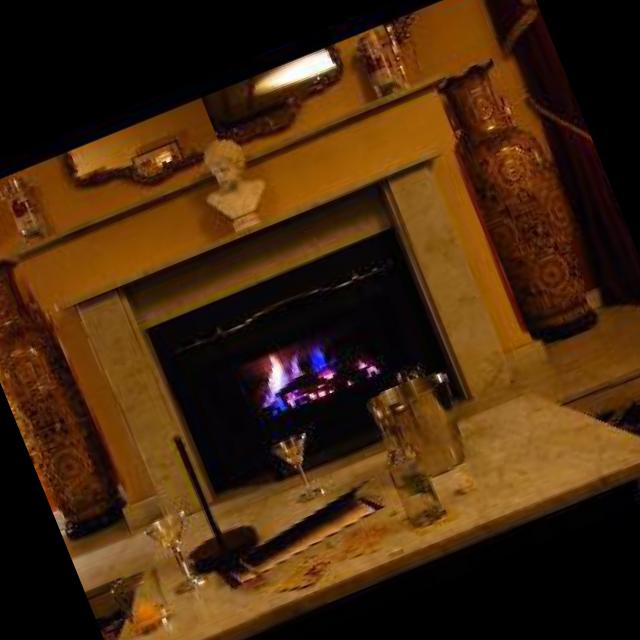fire: (125, 186, 467, 504)
